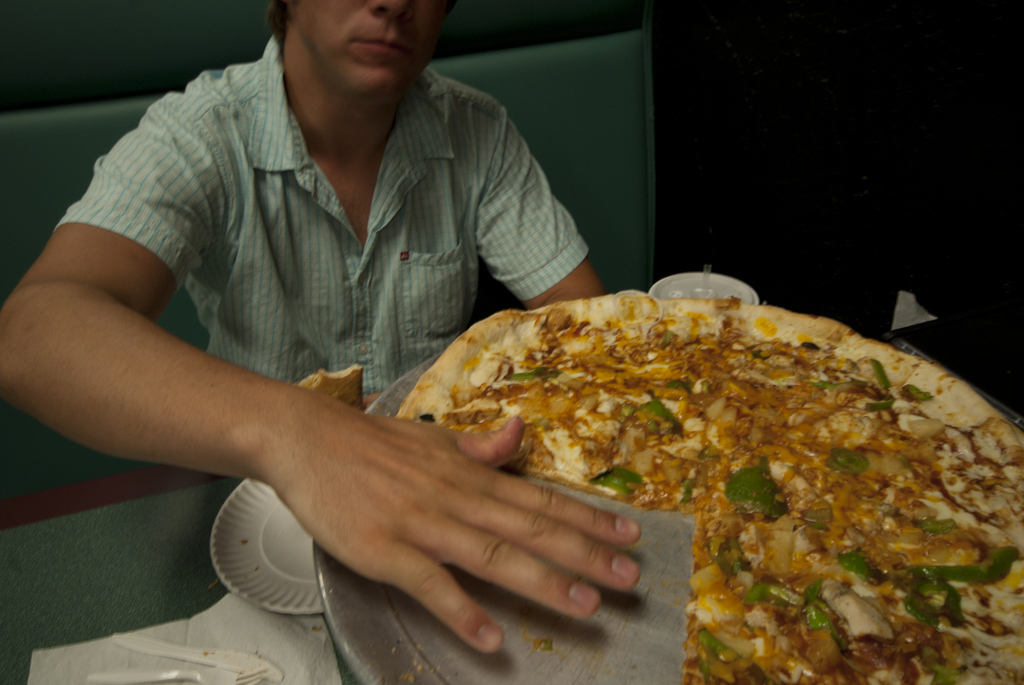Pizza: (400, 289, 997, 631)
